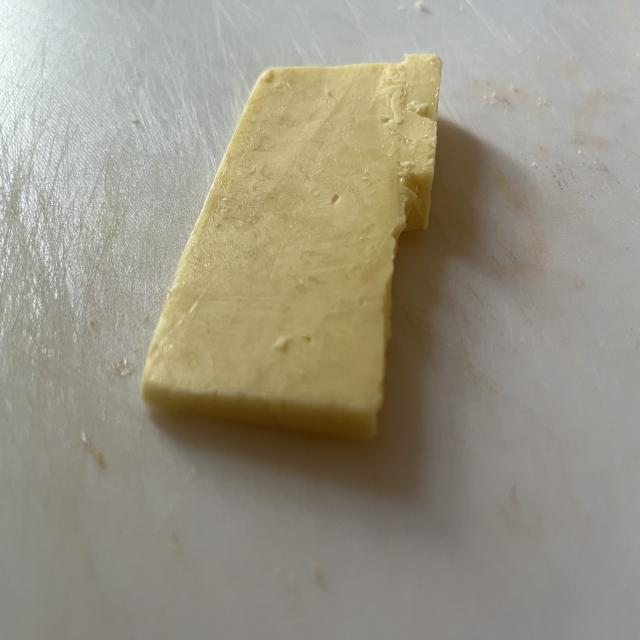cheese: (142, 54, 441, 437)
